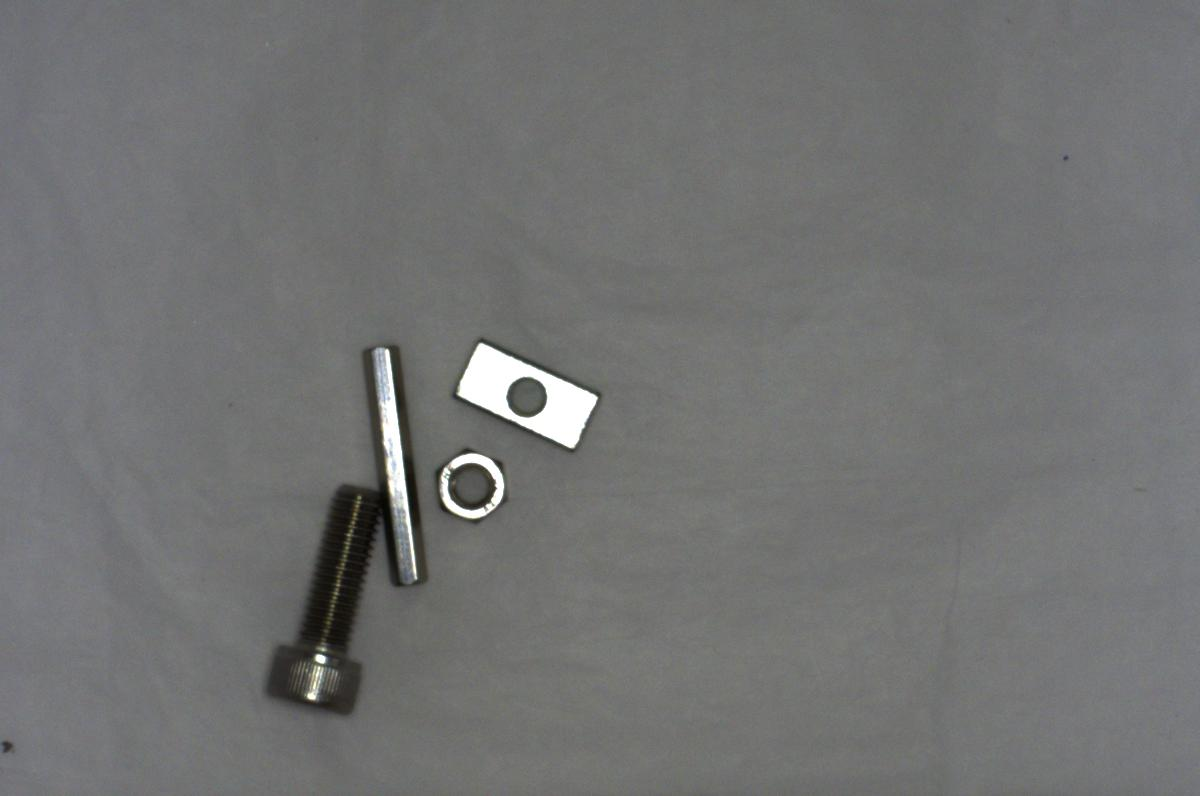Double hexagonal column: (354, 334, 432, 593)
Hexagon nut: (426, 450, 513, 527)
Hexagon screw: (255, 475, 384, 718)
Rectangular nut: (444, 336, 601, 452)
